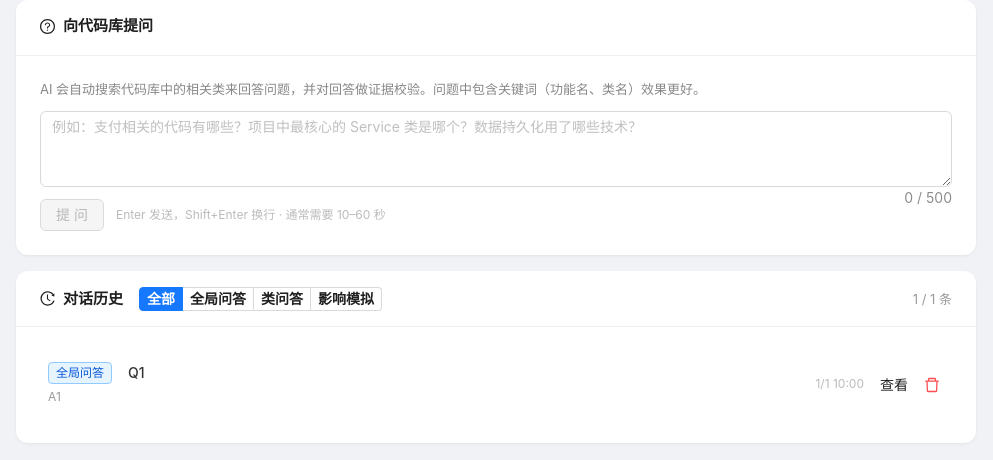
Test: ProjectInsights › emptyDescriptionSlot_whenOnlyFilteredOut_shouldRenderFilterHintWhenSlotIsInvoked
Click the radio button labelled "类问答". click: (282, 299)
box: x1=254 y1=287 x2=311 y2=311
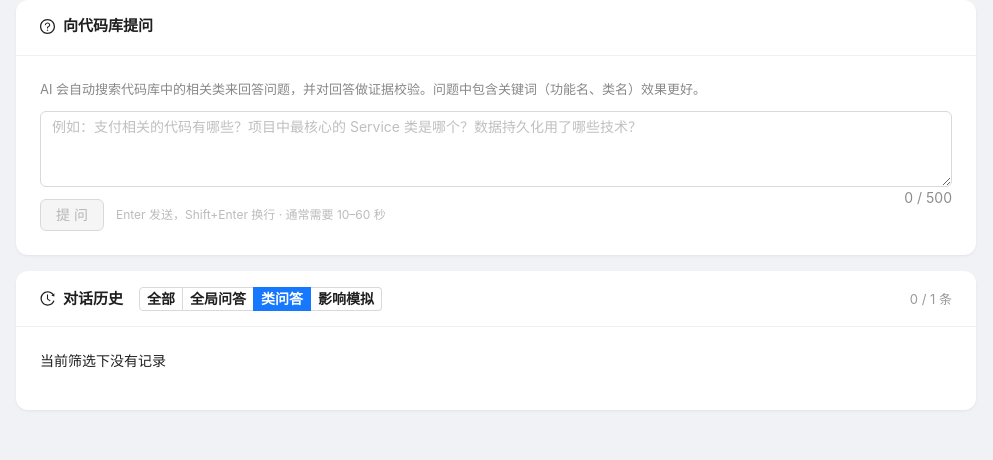
expect the element with class "empty-slot-stub" reads "当前筛选下没有记录": met, box x1=40 y1=352 x2=166 y2=369
